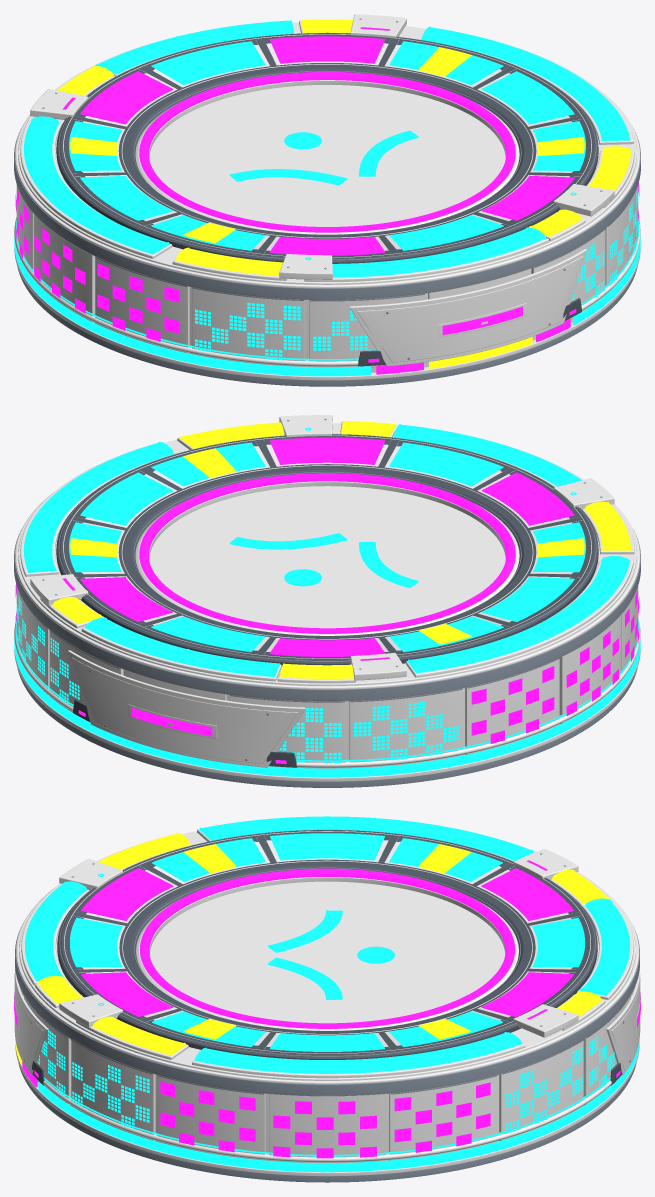
The model's file is Bouncer.fbx.
The picture shows the model from 3 angles, top to bottom: view 1: azimuth 30°, elevation 25°; view 2: azimuth 150°, elevation 25°; view 3: azimuth 270°, elevation 25°; orthographic projection.
Parts seen in each view (by area): view 1: SM_Puck_Bouncer_RetroArcade; view 2: SM_Puck_Bouncer_RetroArcade; view 3: SM_Puck_Bouncer_RetroArcade.
Boxes of the visible parts, bbox=[...] form: SM_Puck_Bouncer_RetroArcade: bbox=[14, 14, 640, 386]; SM_Puck_Bouncer_RetroArcade: bbox=[14, 415, 640, 787]; SM_Puck_Bouncer_RetroArcade: bbox=[14, 816, 640, 1182].
Bounding box in the file's own units: 86.4 × 86.67 × 18.
